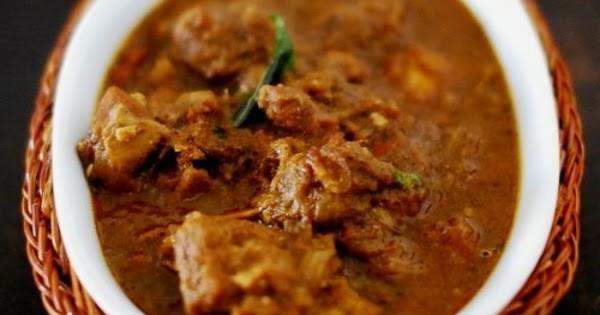MuttonCurry: (73, 0, 519, 315)
